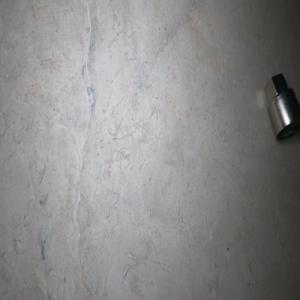MetalPart: (263, 72, 300, 141)
